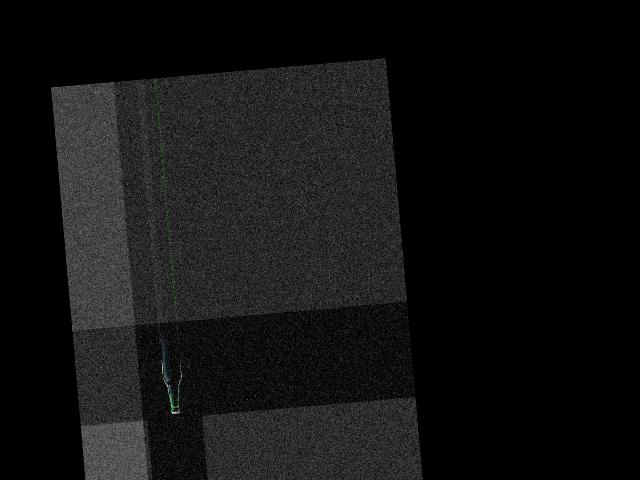beer: (158, 334, 184, 415)
